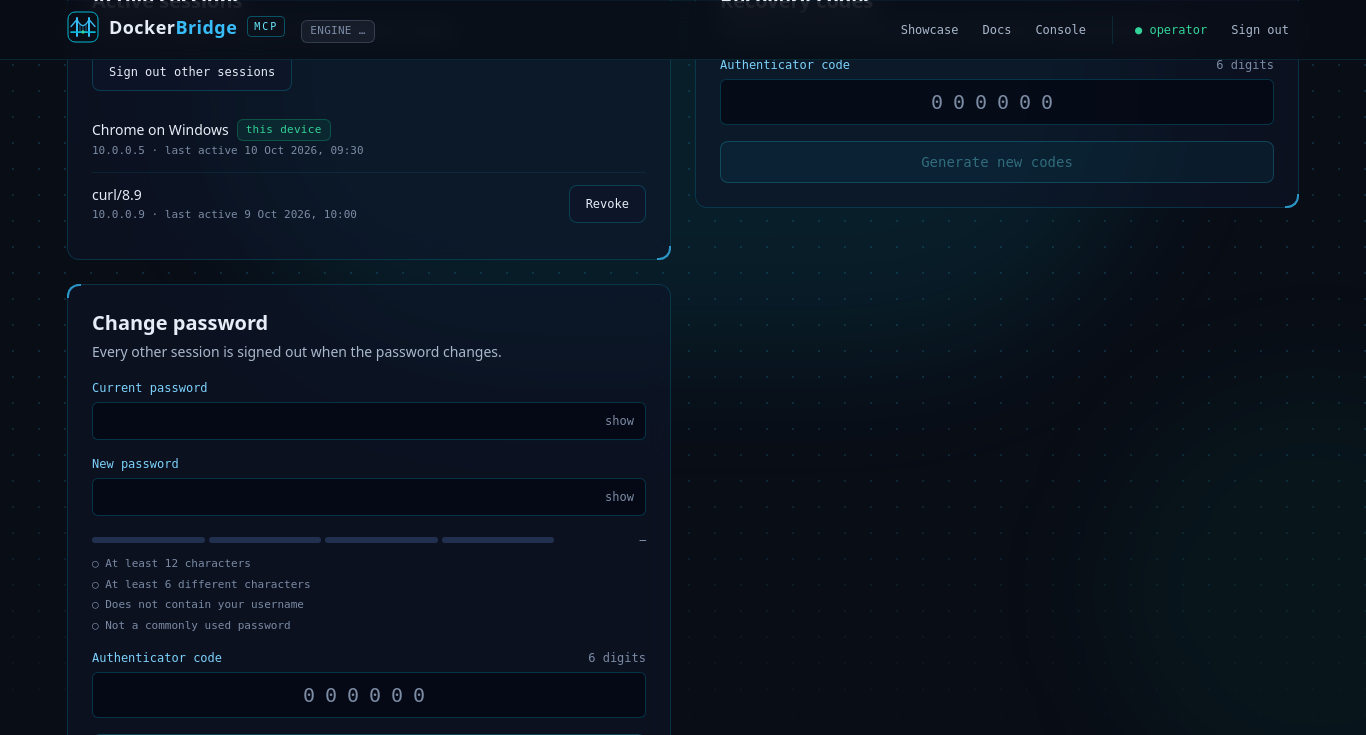
AccountApp › changes the password only with a strong new one and a code
(page scrolled)
Type "violet-harbor-lantern-42" into the password field labelled "Current password".
click(369, 421); type("violet-harbor-lantern-42")  # box top-left (92, 402), bottom-right (646, 440)
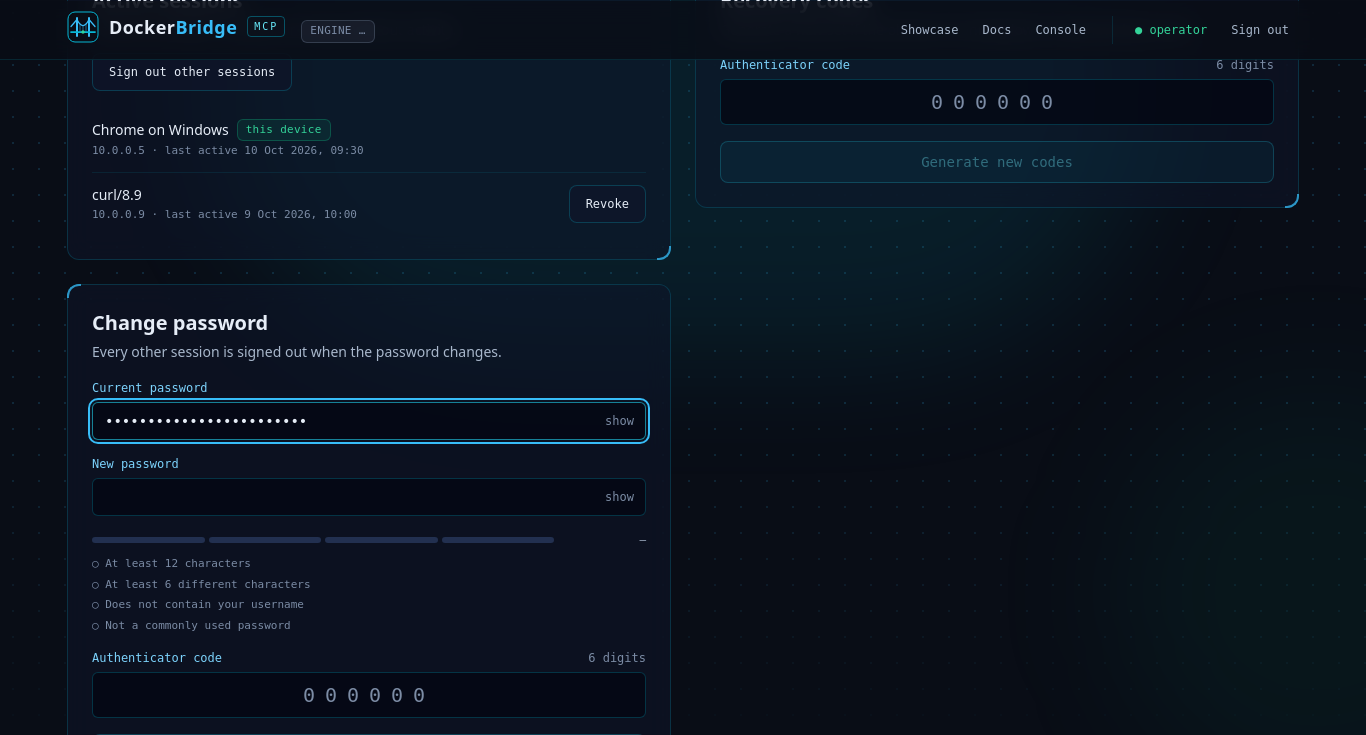
Type "weak" into the password field labelled "New password".
click(369, 497); type("weak")  # box top-left (92, 478), bottom-right (646, 516)
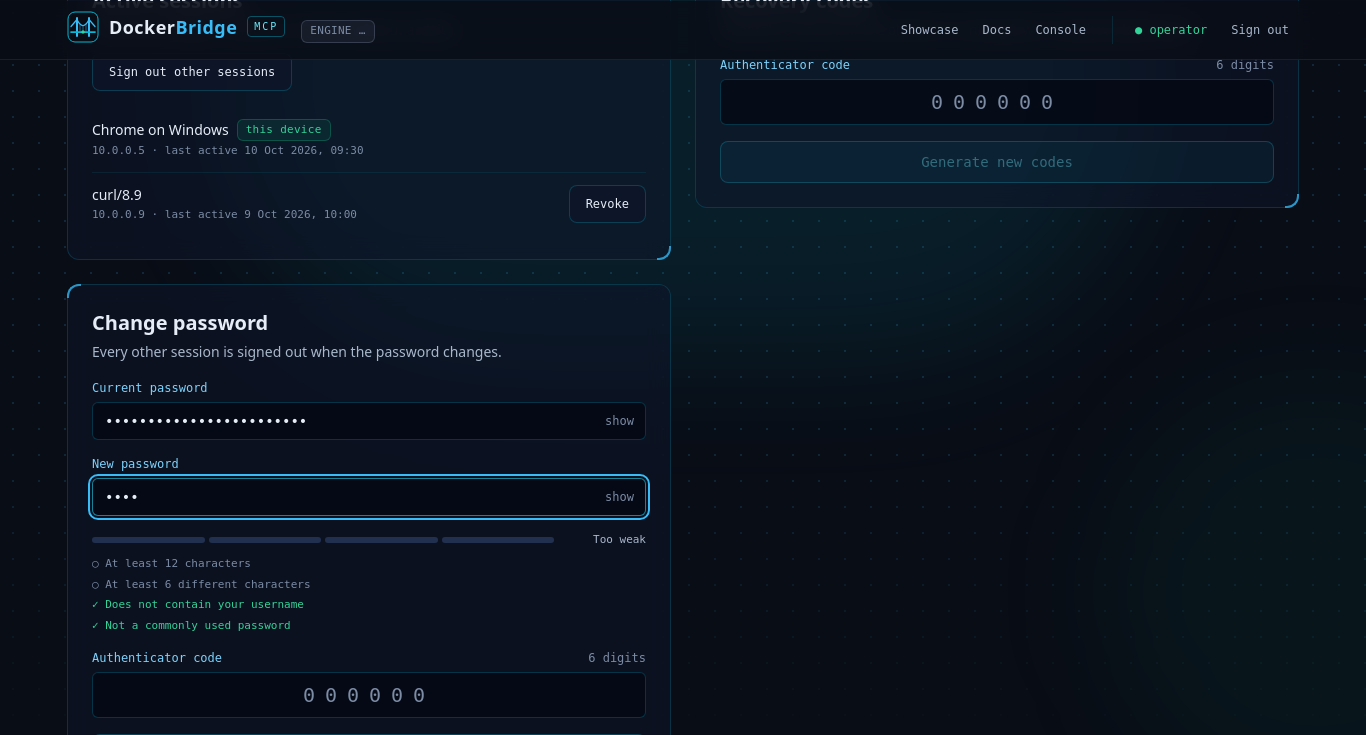
Type "123456" into the field labelled "Authenticator code 6 digits" below "Not a commonly used password".
click(369, 695); type("123456")  # box top-left (92, 672), bottom-right (646, 718)
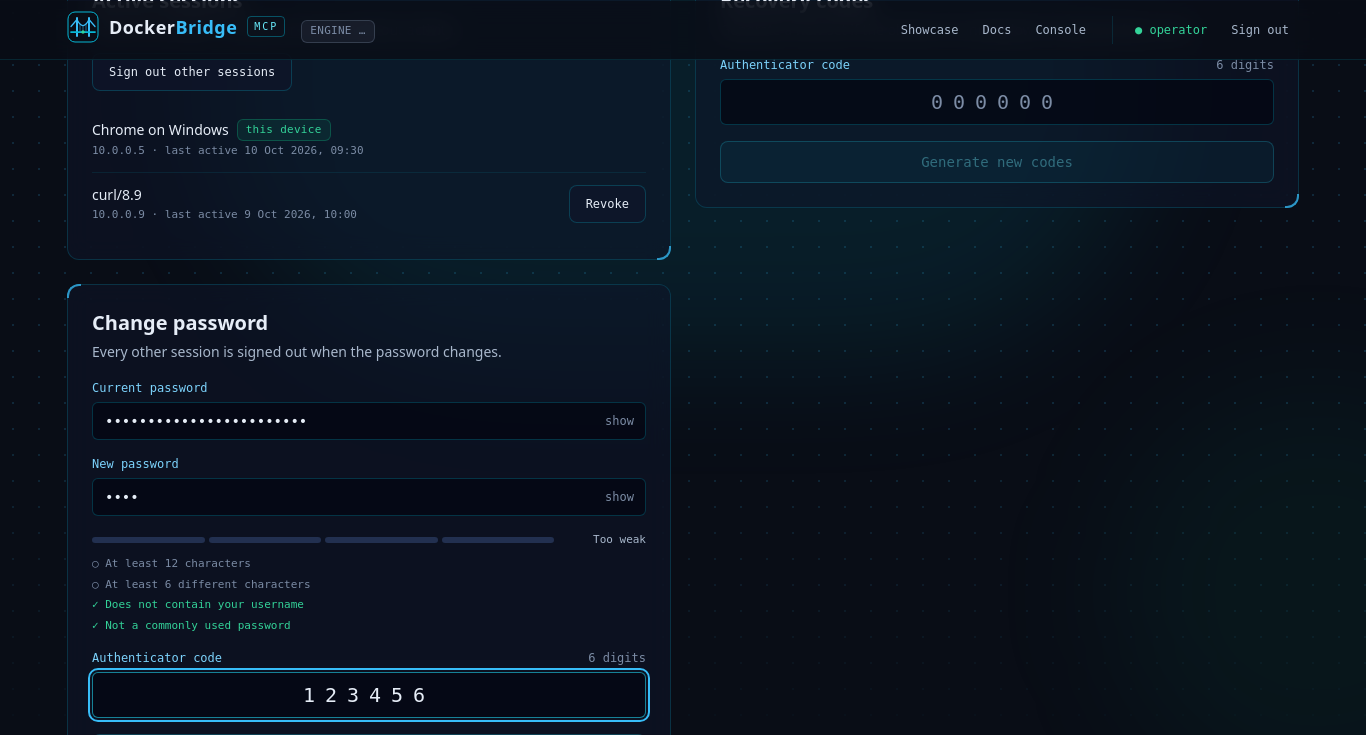
Type "saffron-meadow-compass-77" into the password field labelled "New password".
click(369, 497); type("saffron-meadow-compass-77")  # box top-left (92, 478), bottom-right (646, 516)
(page scrolled)
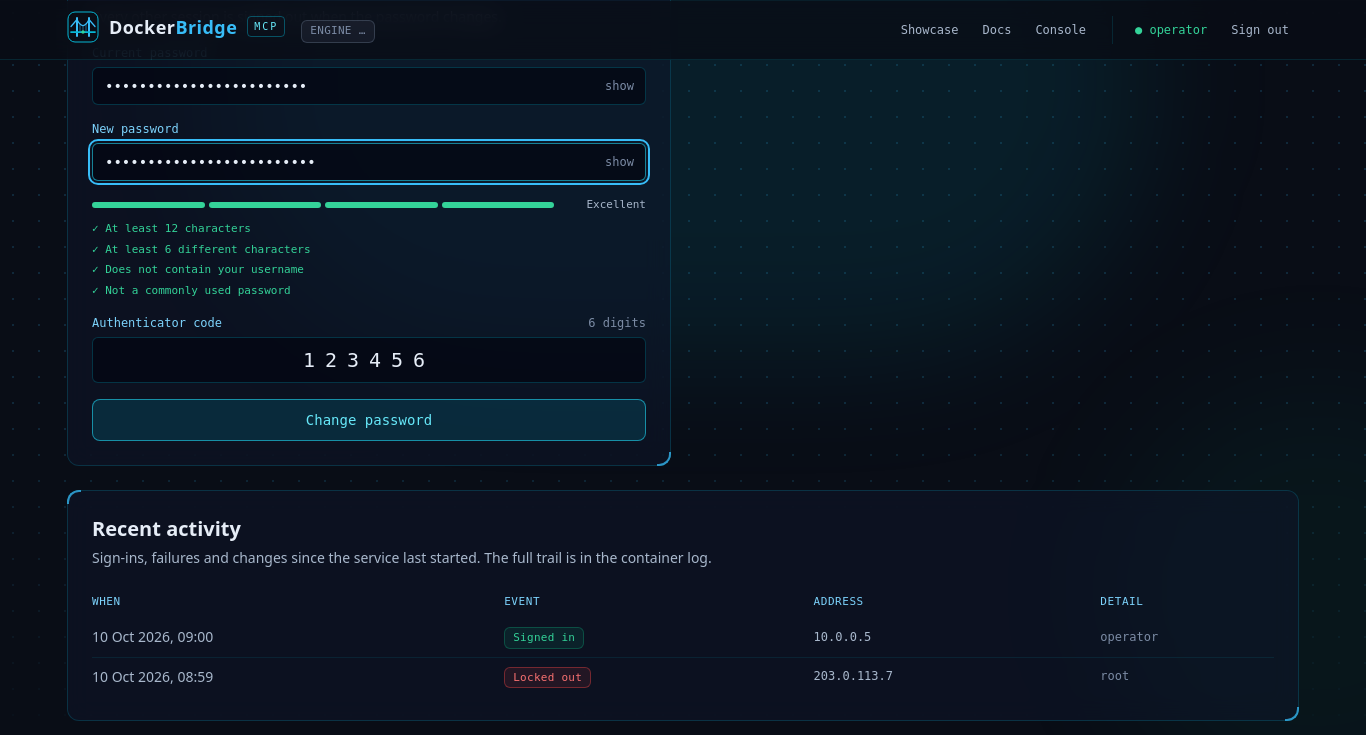
Click the button "Change password".
click(369, 420)  # box top-left (92, 399), bottom-right (646, 441)
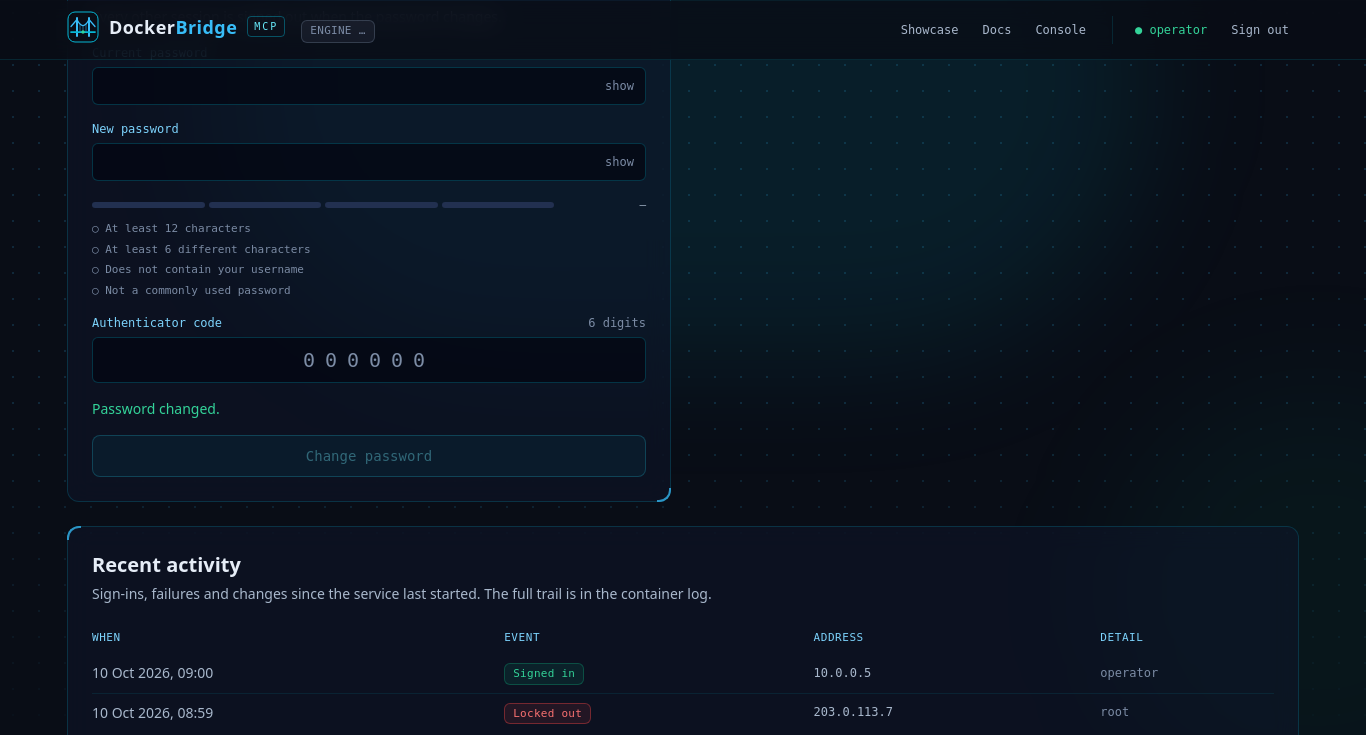
Expected: the message reads "Password changed.", top-left (92, 399), bottom-right (220, 418)
